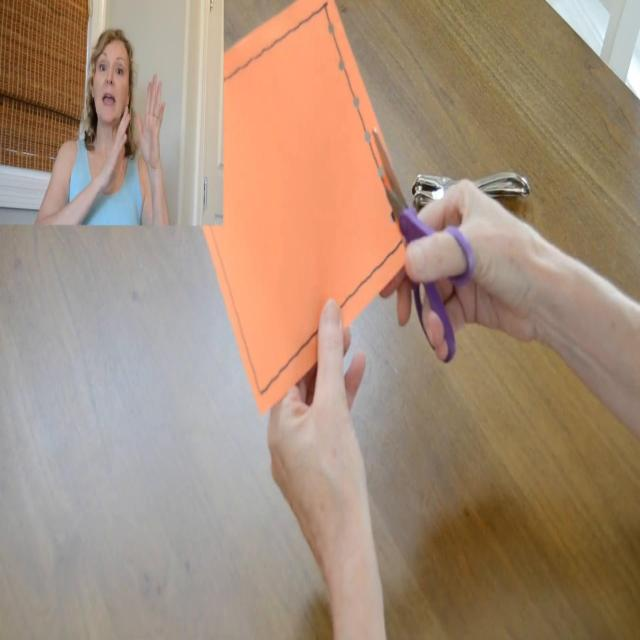scissor: (372, 129, 474, 366)
